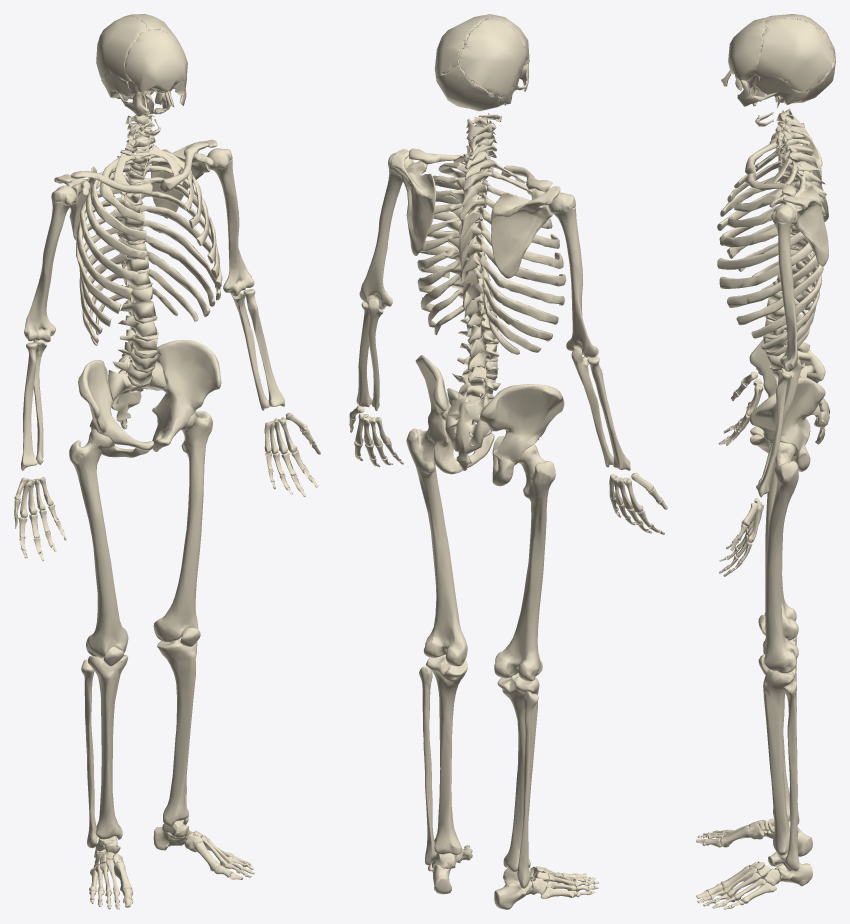
The model's file is anatomy-skeleton.glb.
3 views of the same model, side by side, from view 1: azimuth 30°, elevation 25°; view 2: azimuth 150°, elevation 25°; view 3: azimuth 270°, elevation 25° (orthographic). The views are drawn at different scales.
Parts seen in each view (by area): view 1: ribcage, thigh, shin, spine, pelvis, skull, shoulder, feet, digits, upper-arm-right, upper-arm-left, forearm-left (+2 smaller); view 2: thigh, spine, ribcage, shin, skull, pelvis, shoulder, feet, upper-arm-right, upper-arm-left, forearm-right, forearm-left (+2 smaller); view 3: ribcage, skull, thigh, shin, spine, pelvis, feet, shoulder, upper-arm-left, digits, forearm-left, hands.
Part boxes in pixels (x1,y1,x2,y2): ribcage: (76,145,222,345); thigh: (69,411,212,666); shin: (81,637,197,848); spine: (108,112,166,429); pelvis: (78,340,221,457); skull: (96,14,187,135); shoulder: (54,139,217,240); feet: (89,820,233,893); digits: (14,429,320,909); upper-arm-right: (24,185,76,342); upper-arm-left: (207,148,254,296); forearm-left: (230,289,284,410); thigh: (406,428,555,681); spine: (445,117,500,470); ribcage: (417,155,566,354); shin: (419,654,539,888); skull: (434,14,529,122); pelvis: (415,355,564,486); shoulder: (391,148,560,278); feet: (428,848,577,909); upper-arm-right: (548,192,598,357); upper-arm-left: (359,152,413,309); forearm-right: (571,347,630,470); forearm-left: (356,298,383,410); ribcage: (717,148,824,356); skull: (721,14,835,126); thigh: (758,442,798,674); shin: (763,636,799,870); spine: (763,108,829,444); pelvis: (749,330,825,471); feet: (720,818,812,903); shoulder: (745,127,828,266); upper-arm-left: (771,204,797,371); digits: (696,382,752,909); forearm-left: (756,360,801,497); hands: (741,371,764,542).
Size of the model in its own units: 3.24 by 8.54 by 1.27.
